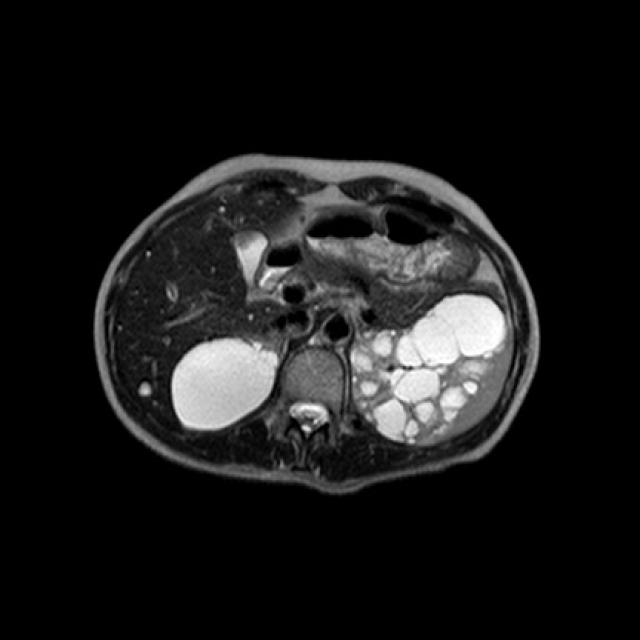sag: (171, 330, 290, 430)
sol: (350, 292, 511, 448)
